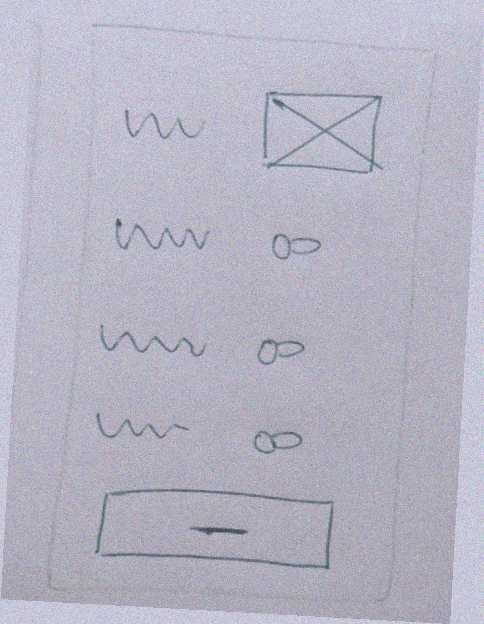button: (89, 476, 341, 580)
image: (250, 80, 391, 187)
switch: (243, 323, 317, 382), (262, 218, 334, 274), (241, 414, 312, 464)
text: (95, 314, 213, 373), (116, 94, 217, 158), (81, 403, 201, 454), (102, 208, 217, 260)
